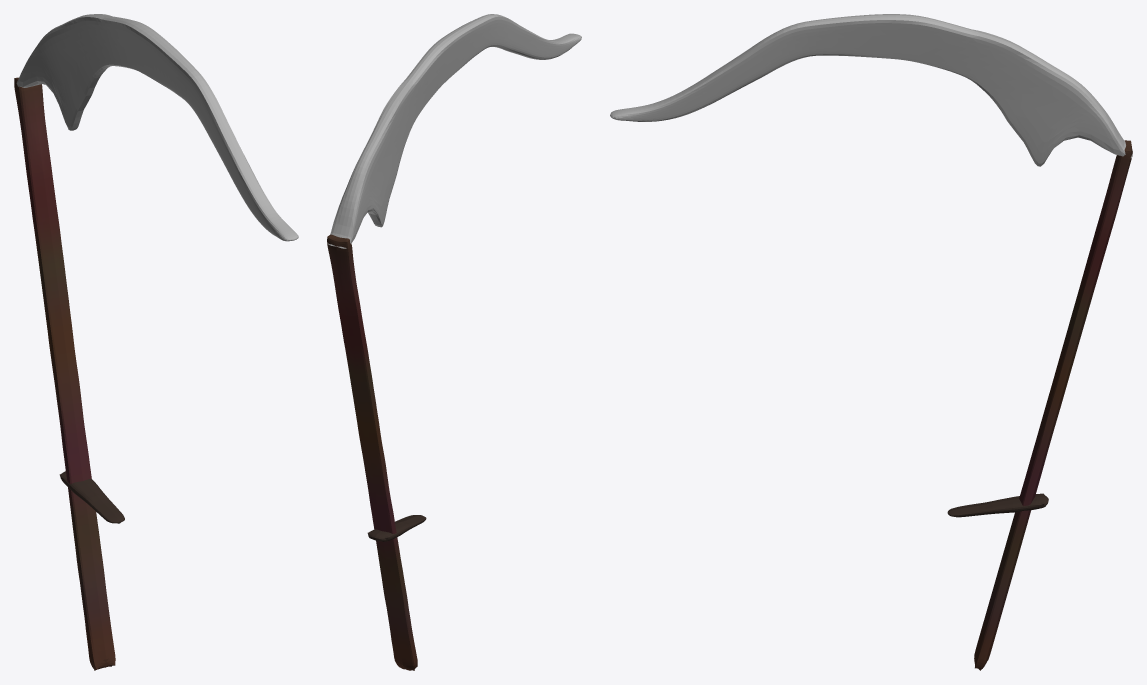
Rendered from falce.obj.
The picture shows the model from 3 angles, left to right: view 1: azimuth 30°, elevation 25°; view 2: azimuth 150°, elevation 25°; view 3: azimuth 270°, elevation 25°; orthographic projection. The views are drawn at different scales.
Visible parts, largest first — view 1: ZBrush_defualt_group, Group2, Group1; view 2: Group2, ZBrush_defualt_group, Group1; view 3: Group2, ZBrush_defualt_group, Group1.
Part boxes in pixels (bbox=[...]): ZBrush_defualt_group: bbox=[14, 77, 115, 670]; Group2: bbox=[16, 14, 298, 241]; Group1: bbox=[59, 471, 124, 523]; Group2: bbox=[328, 14, 581, 248]; ZBrush_defualt_group: bbox=[327, 234, 417, 670]; Group1: bbox=[367, 515, 426, 541]; Group2: bbox=[610, 14, 1132, 166]; ZBrush_defualt_group: bbox=[974, 140, 1132, 670]; Group1: bbox=[947, 493, 1048, 517].
Bounding box in the file's own units: 0.3038 × 8.07 × 5.87.
Materials: 1 (1 with a texture image).
